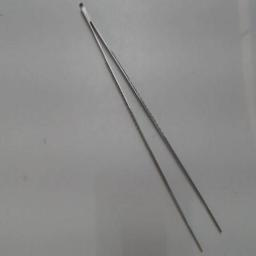DeBakey Dissector: (76, 0, 238, 254)
